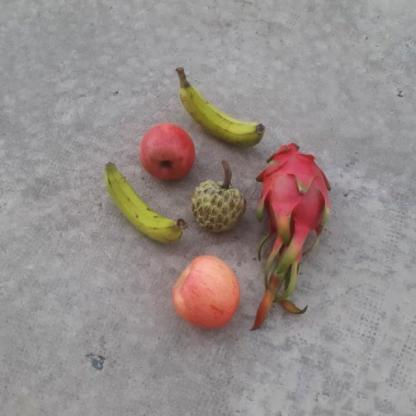annona: (191, 178, 249, 234)
apple: (170, 254, 244, 330), (135, 118, 196, 182)
banana: (92, 159, 184, 250), (180, 75, 266, 148)
pitaya: (254, 140, 333, 240)
